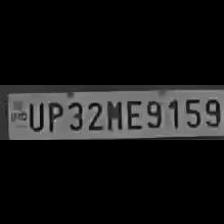1: (164, 96, 181, 128)
2: (84, 98, 104, 130)
3: (64, 98, 84, 130)
5: (181, 94, 201, 128)
9: (142, 97, 162, 129), (202, 95, 222, 127)
E: (122, 97, 142, 129)
M: (104, 96, 122, 130)
P: (44, 98, 64, 132)
U: (25, 98, 42, 130)
